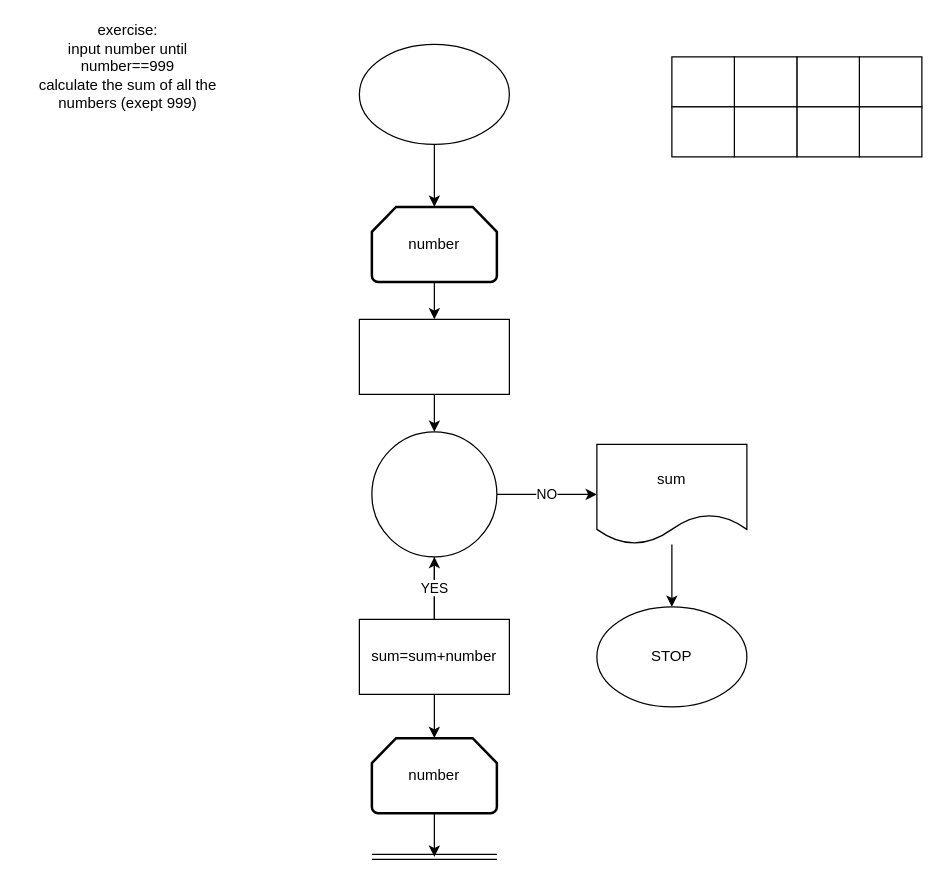
The diagram is 944 pixels wide and 889 high, and some of its shapes have lost their labels. Each missing label, with the centre of its shape:
not number==999: pixel 434 494
START: pixel 433 93
sum=0: pixel 433 356
